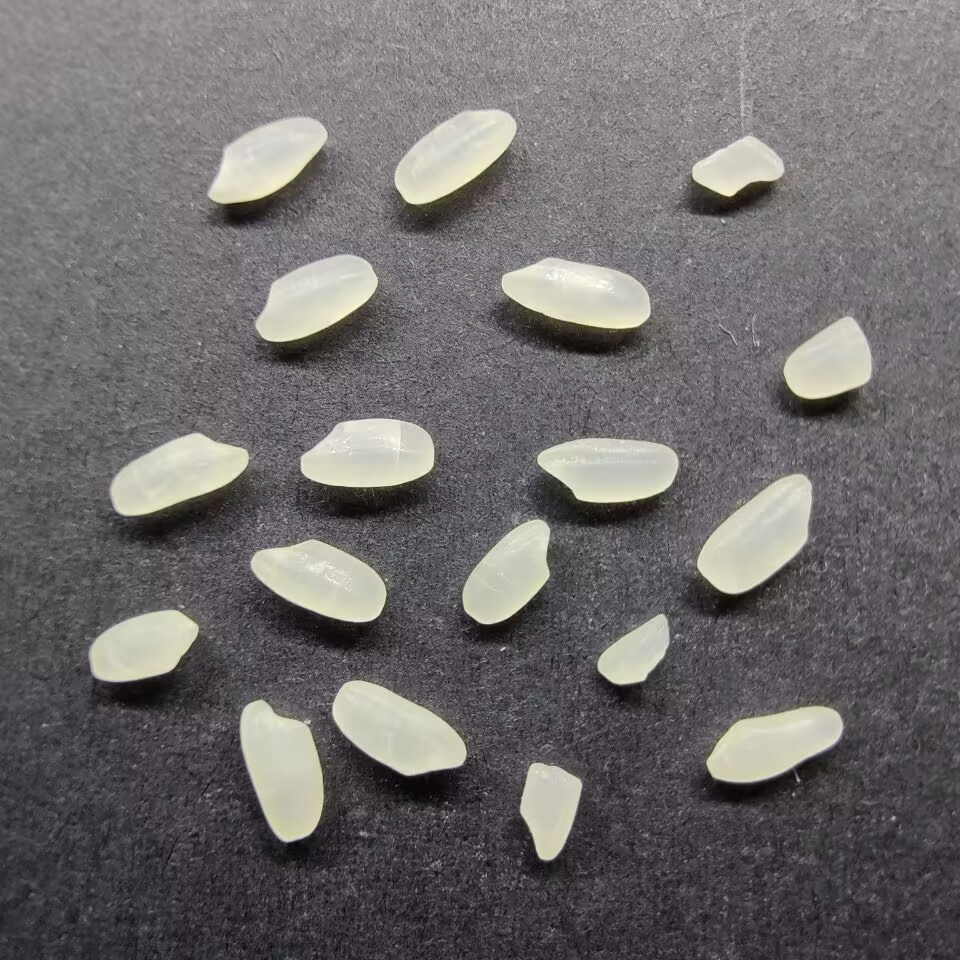broken: (782, 313, 872, 401), (517, 761, 582, 861), (689, 133, 784, 198), (596, 613, 671, 685)
rice: (694, 469, 814, 596), (331, 678, 467, 778), (391, 106, 518, 206), (239, 700, 326, 843), (108, 430, 248, 517), (249, 538, 387, 623), (497, 255, 651, 331), (705, 703, 844, 784), (252, 255, 380, 342), (204, 115, 327, 204), (459, 517, 554, 626), (297, 417, 435, 489), (535, 437, 679, 503), (87, 609, 199, 683)
